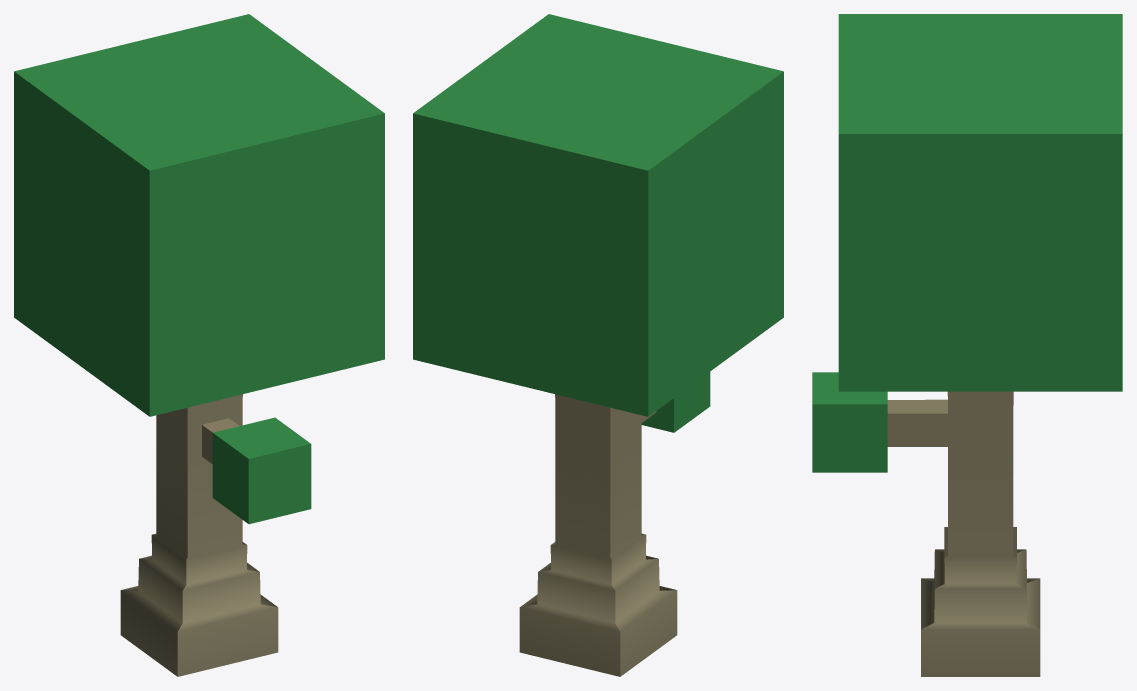
Rendered from small_tree 1.fbx.
The picture shows the model from 3 angles, left to right: view 1: azimuth 30°, elevation 25°; view 2: azimuth 150°, elevation 25°; view 3: azimuth 270°, elevation 25°; orthographic projection. The views are drawn at different scales.
Visible parts, largest first — view 1: polySurface1; view 2: polySurface1; view 3: polySurface1.
Part boxes in pixels (x1,y1,x2,y2): polySurface1: [14, 14, 384, 676]; polySurface1: [413, 14, 783, 676]; polySurface1: [812, 14, 1122, 676].
Bounding box in the file's own units: 4.76 × 10.66 × 5.2.
